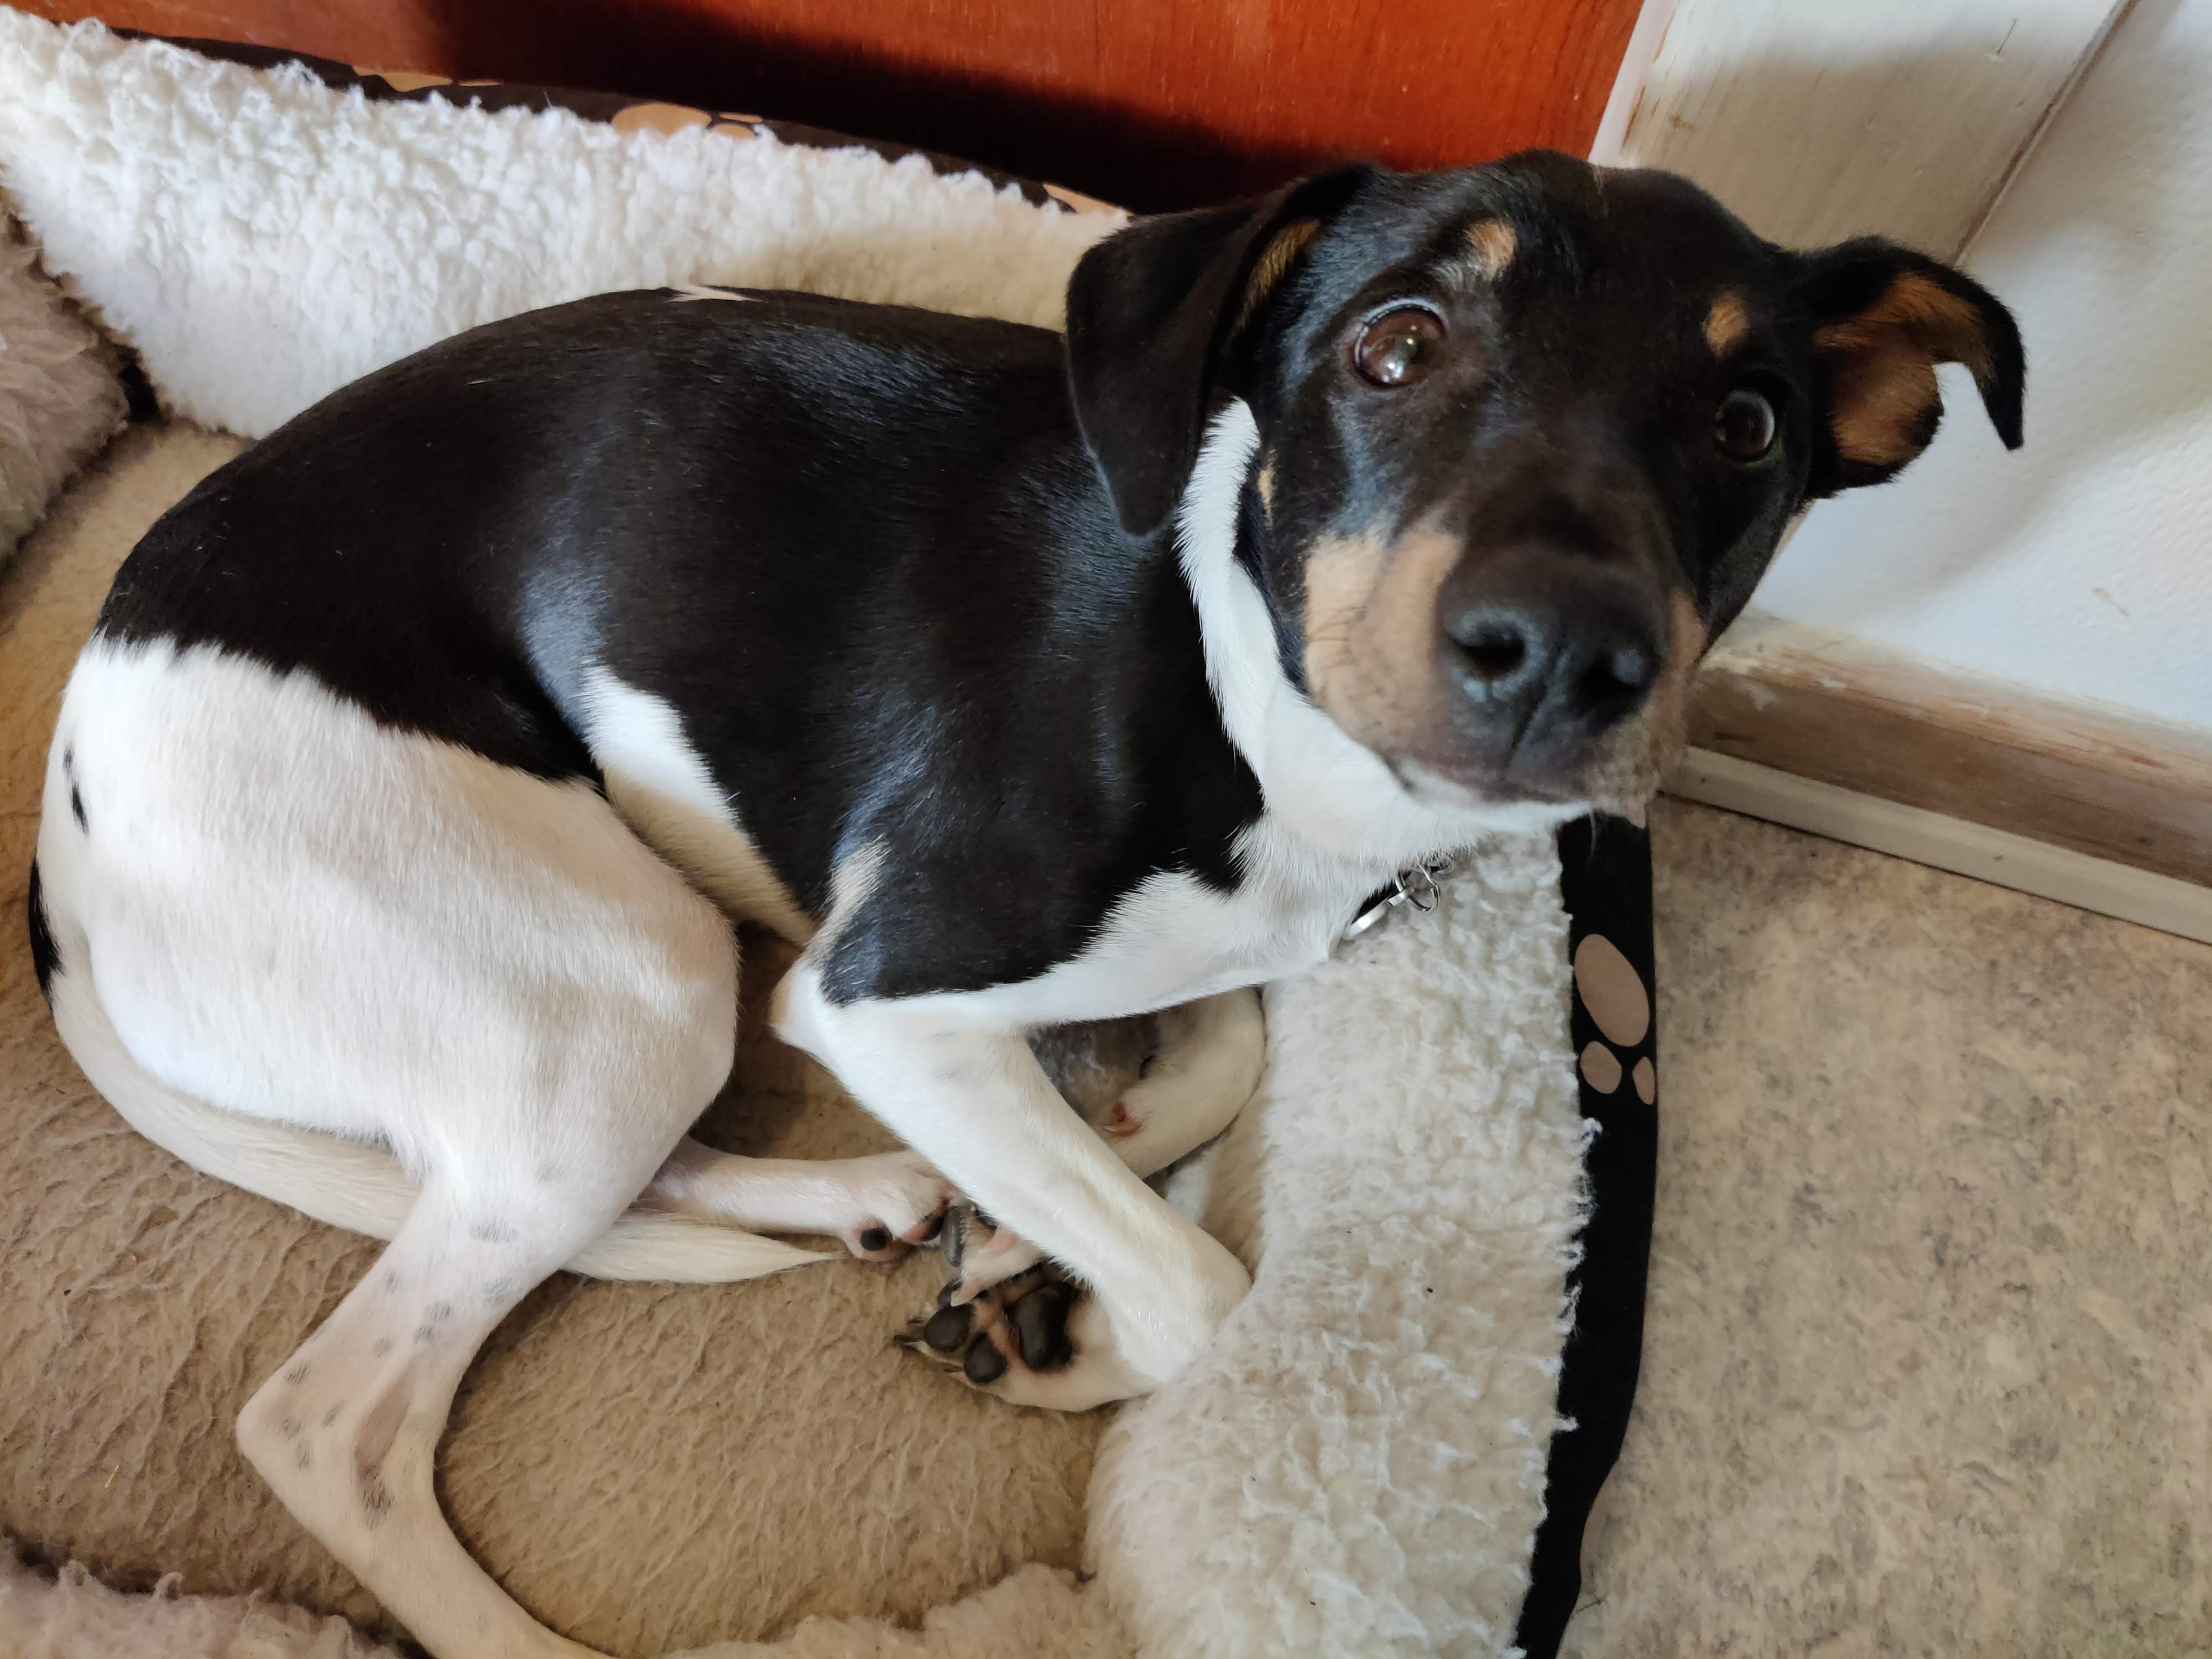Dog: (19, 132, 2043, 1659)
